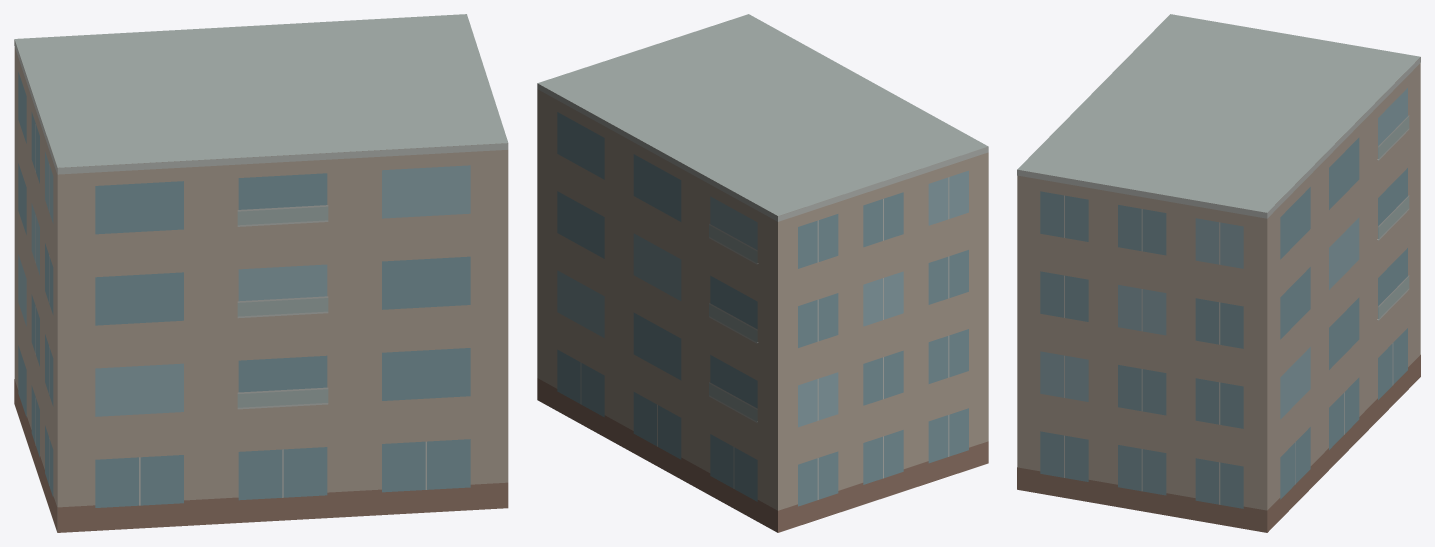
The model's file is survey-upis-33012332.glb.
3 renders of one model, left to right at view 1: azimuth 30°, elevation 25°; view 2: azimuth 150°, elevation 25°; view 3: azimuth 270°, elevation 25°, orthographic. The views are drawn at different scales.
Visible parts, largest first — view 1: survey-upis-33012332.tmp; view 2: survey-upis-33012332.tmp; view 3: survey-upis-33012332.tmp.
Part boxes in pixels (<box>): survey-upis-33012332.tmp: <box>14,14,508,532</box>; survey-upis-33012332.tmp: <box>537,14,988,532</box>; survey-upis-33012332.tmp: <box>1017,14,1420,532</box>.
Bounding box in the file's own units: 17.68 × 13.26 × 15.17.
